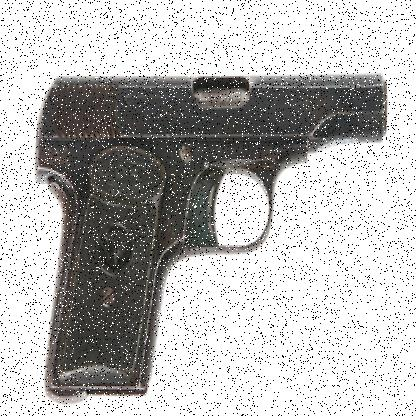pistol: (32, 73, 389, 404)
